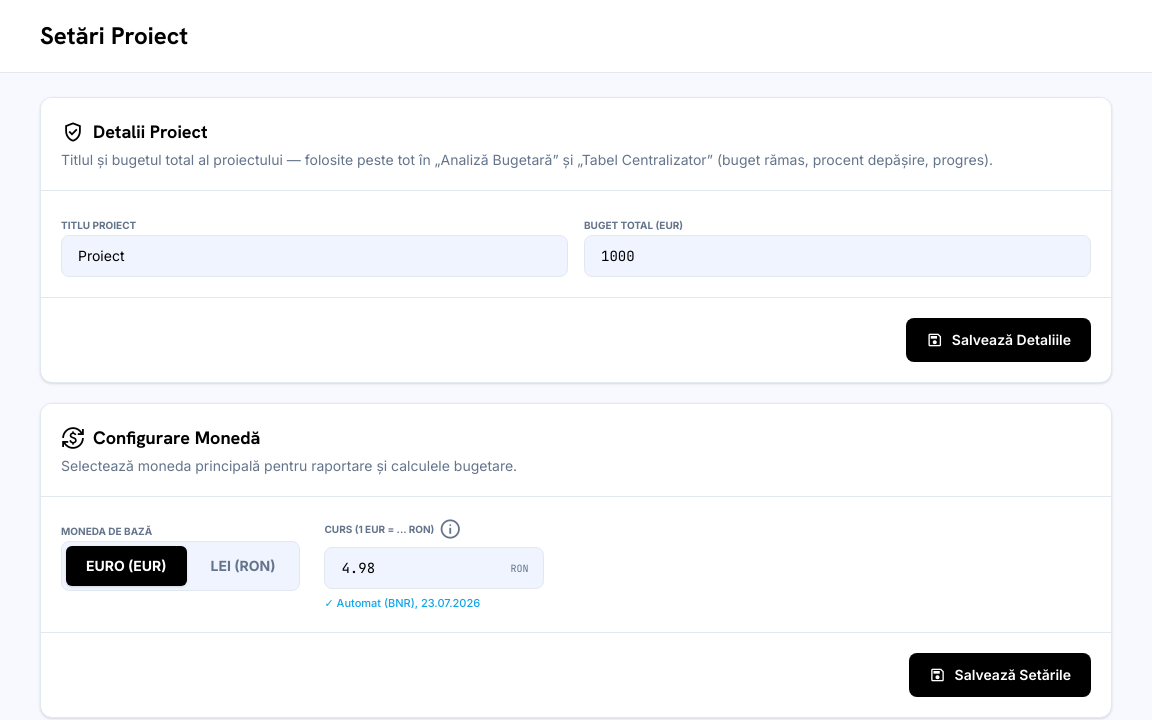
Test: Setări — curs valutar automat › la editare manuală, badge-ul trece pe 'introdus manual' și nu mai e suprascris de API
This screenshot has width=1152, height=720.
Expected: the text "✓ Automat (BNR), 23.07.2026" is shown, x1=324 y1=595 x2=480 y2=612
Replace the text in the field with placeholder "4.97" below "Curs (1 EUR = ... RON)" with "5,10": (434, 568) x1=324 y1=547 x2=544 y2=589
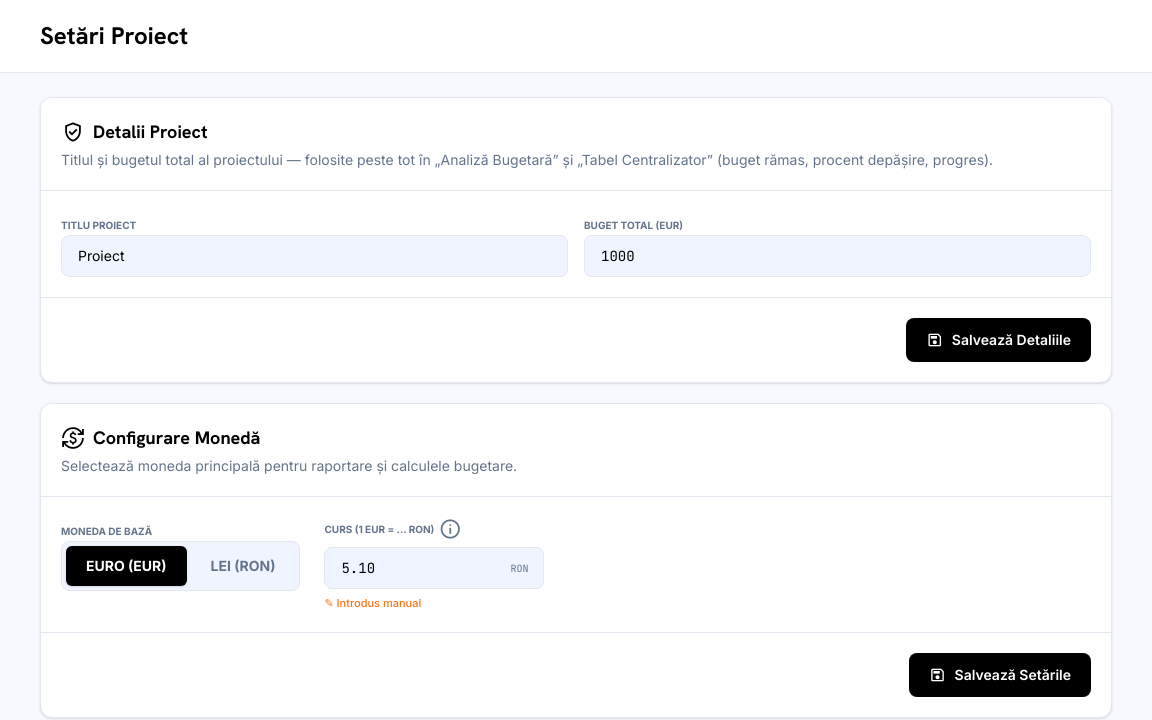
Expected: the text "✎ Introdus manual" is shown, x1=324 y1=595 x2=421 y2=612
Expected: the field with placeholder "4.97" below "Curs (1 EUR = ... RON)" holds "5.10", x1=324 y1=547 x2=544 y2=589
